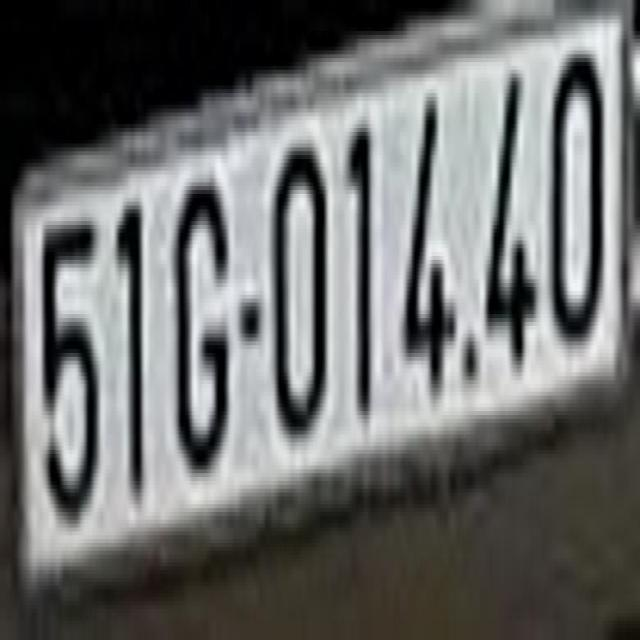0: (550, 66, 610, 353), (273, 140, 325, 446)
1: (115, 178, 151, 496), (348, 120, 372, 427)
4: (406, 89, 452, 396), (486, 78, 535, 364)
5: (35, 209, 101, 516)
G: (176, 175, 230, 462)
